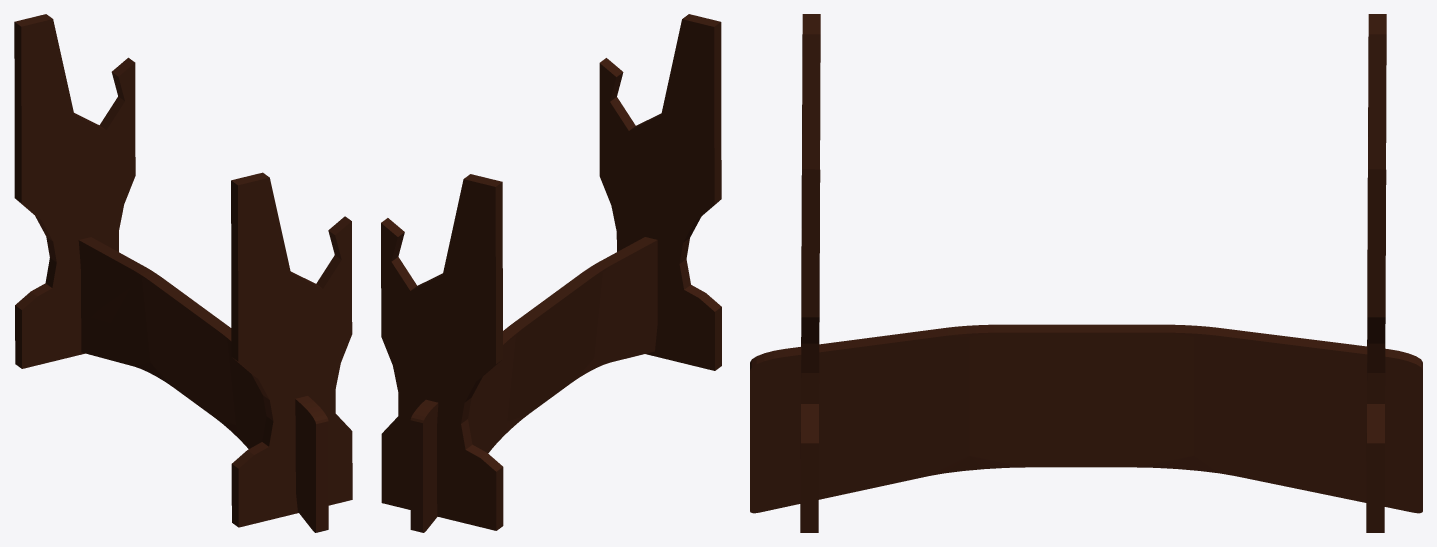
The model's file is Ptongkat.fbx.
The picture shows the model from 3 angles, left to right: view 1: azimuth 30°, elevation 25°; view 2: azimuth 150°, elevation 25°; view 3: azimuth 270°, elevation 25°; orthographic projection. The views are drawn at different scales.
Visible parts, largest first — view 1: ptongkat; view 2: ptongkat; view 3: ptongkat.
Boxes of the visible parts, x1,y1,x2,y2 form: ptongkat: (14,14,352,532); ptongkat: (381,14,721,532); ptongkat: (750,14,1422,532).
Bounding box in the file's own units: 200 × 584 × 784.
